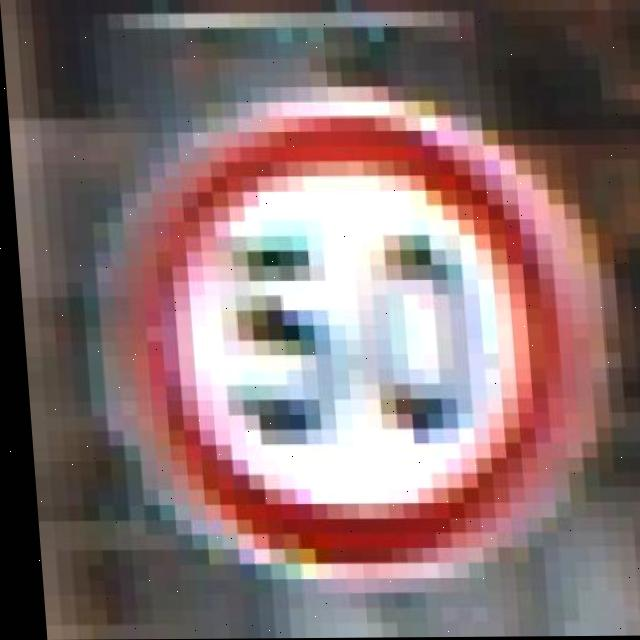Speed limit 50: (105, 98, 590, 580)
